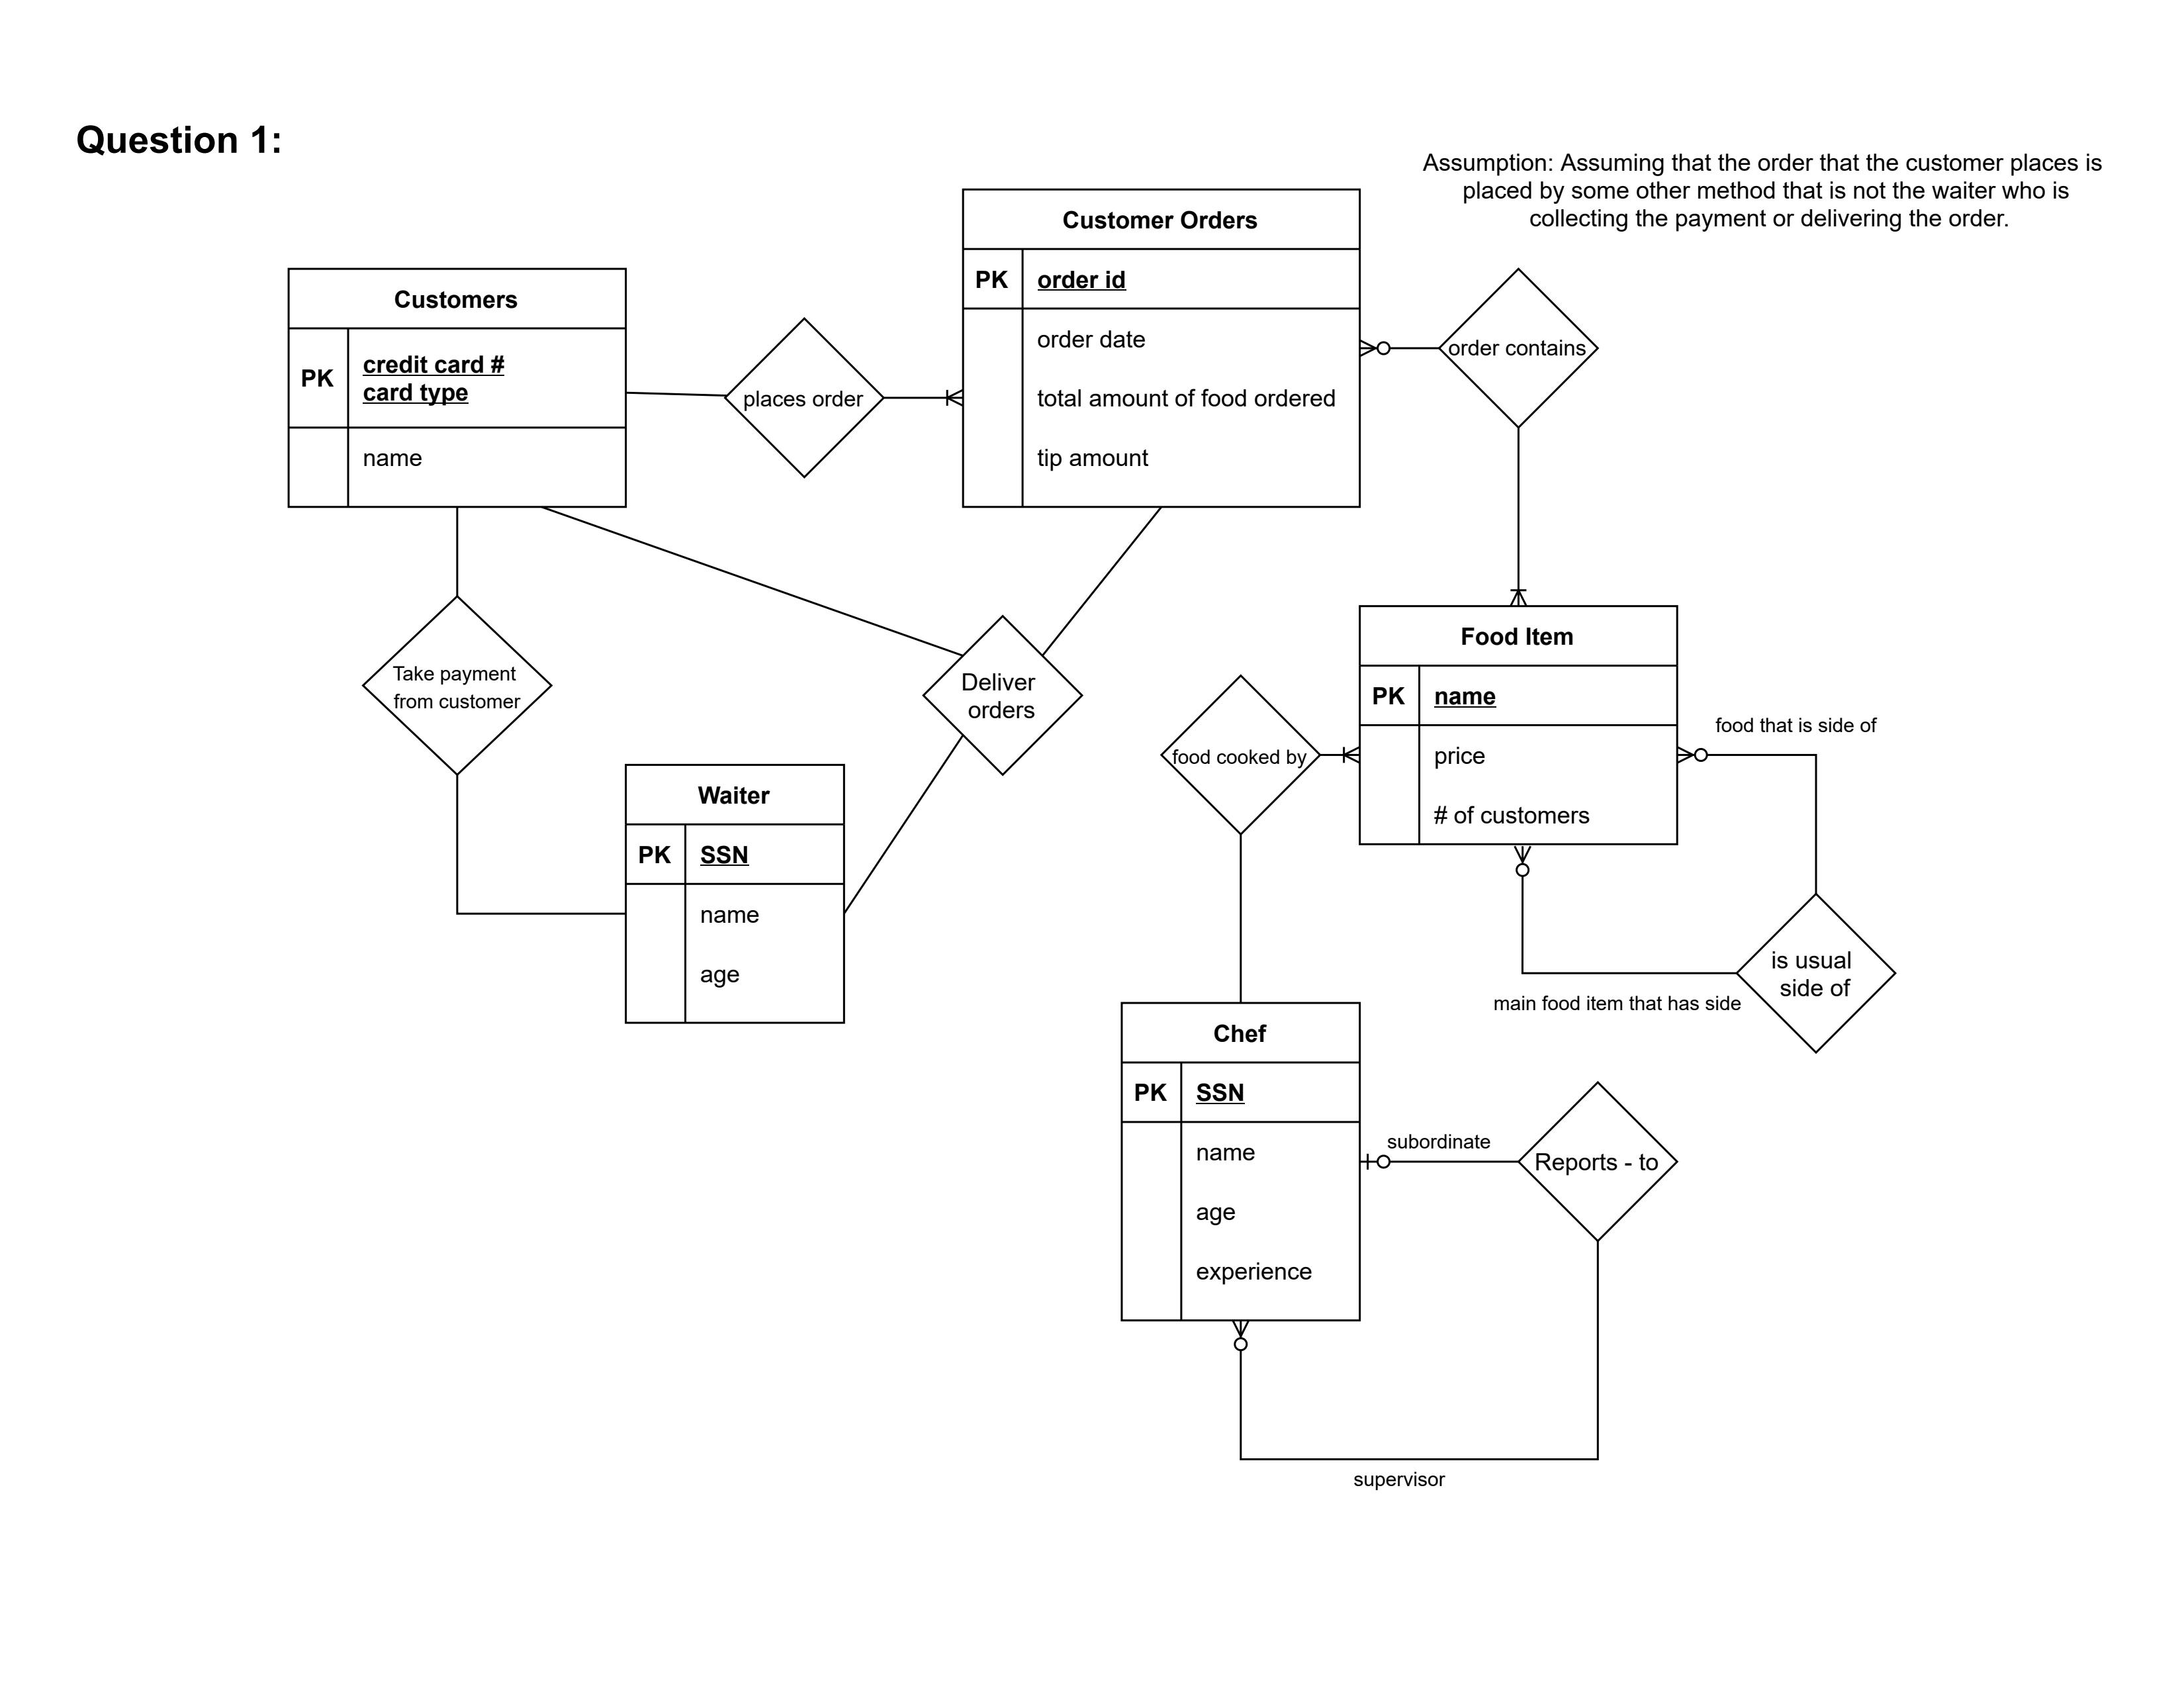Entity: (959, 186, 1363, 511), (284, 262, 631, 512), (1117, 998, 1367, 1328), (1358, 601, 1682, 849), (619, 757, 851, 1032)
Relationship: (360, 598, 553, 777), (721, 316, 883, 481), (1737, 888, 1893, 1057), (1158, 672, 1319, 833), (920, 612, 1081, 773), (1438, 266, 1601, 426), (1516, 1082, 1675, 1243)
